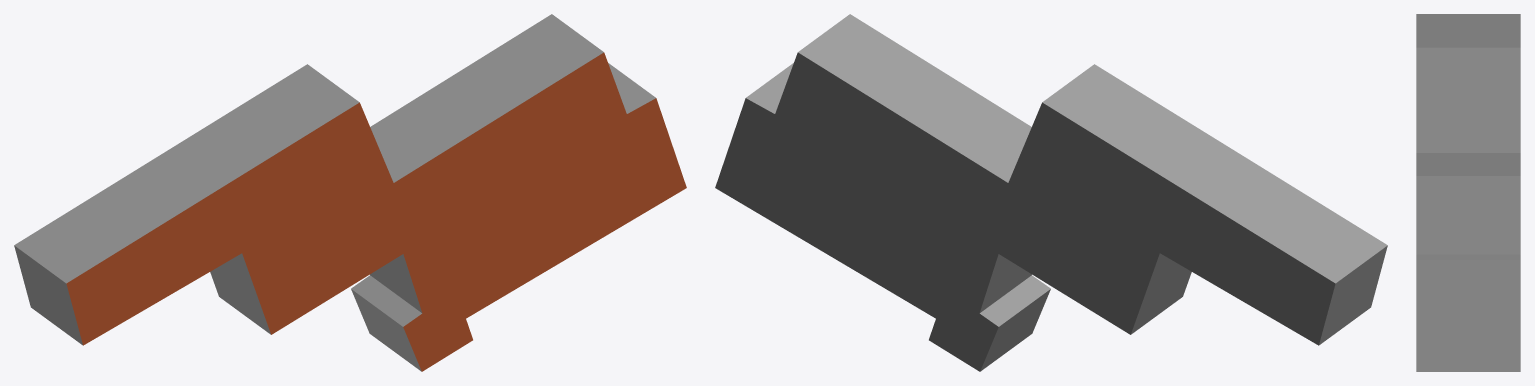
The model's file is construction_5113_assumed_A_Casa_h6m.obj.
3 views of the same model, side by side, from view 1: azimuth 30°, elevation 25°; view 2: azimuth 150°, elevation 25°; view 3: azimuth 270°, elevation 25° (orthographic).
Visible parts, largest first — view 1: construction_5113_assumed_A_Casa; view 2: construction_5113_assumed_A_Casa; view 3: construction_5113_assumed_A_Casa.
Boxes of the visible parts, x1=… form: construction_5113_assumed_A_Casa: x1=14, y1=14, x2=686, y2=371; construction_5113_assumed_A_Casa: x1=715, y1=14, x2=1387, y2=371; construction_5113_assumed_A_Casa: x1=1416, y1=14, x2=1520, y2=371.
Bounding box in the file's own units: 41.09 × 18.02 × 6.
